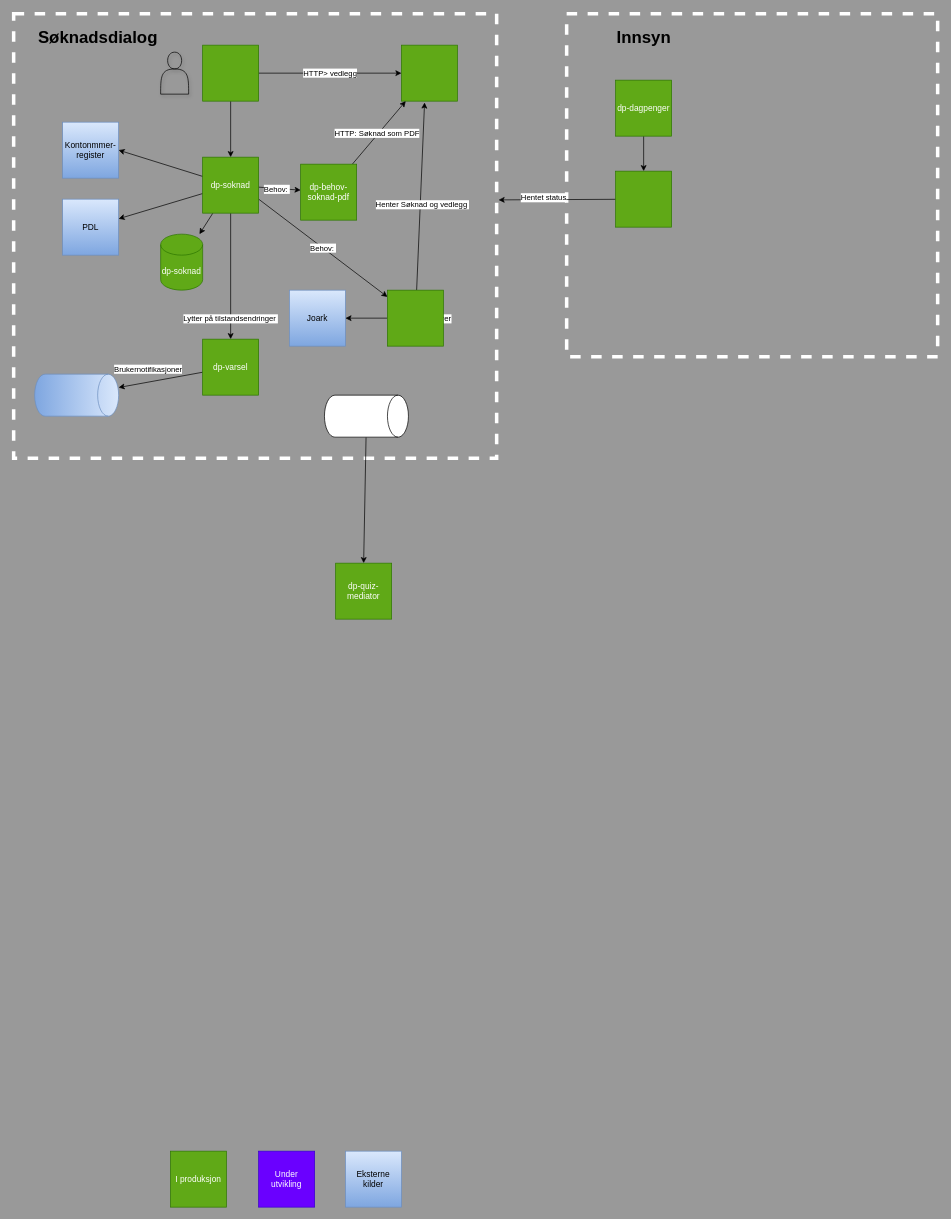
This 951x1219 diagram has some shape labels left out. The centre of each missing label's shape, as x and y in pixels:
"dp-behov-journalforing" belongs at [415,317].
"dp-innsyn" belongs at [643,198].
"dp-mellomlagring" belongs at [429,72].
"dp-soknadsdialog" belongs at [230,72].
"min-side.aapen-brukernotifikasjon-*" belongs at [76,394].
"rapid.v1" belongs at [366,415].
